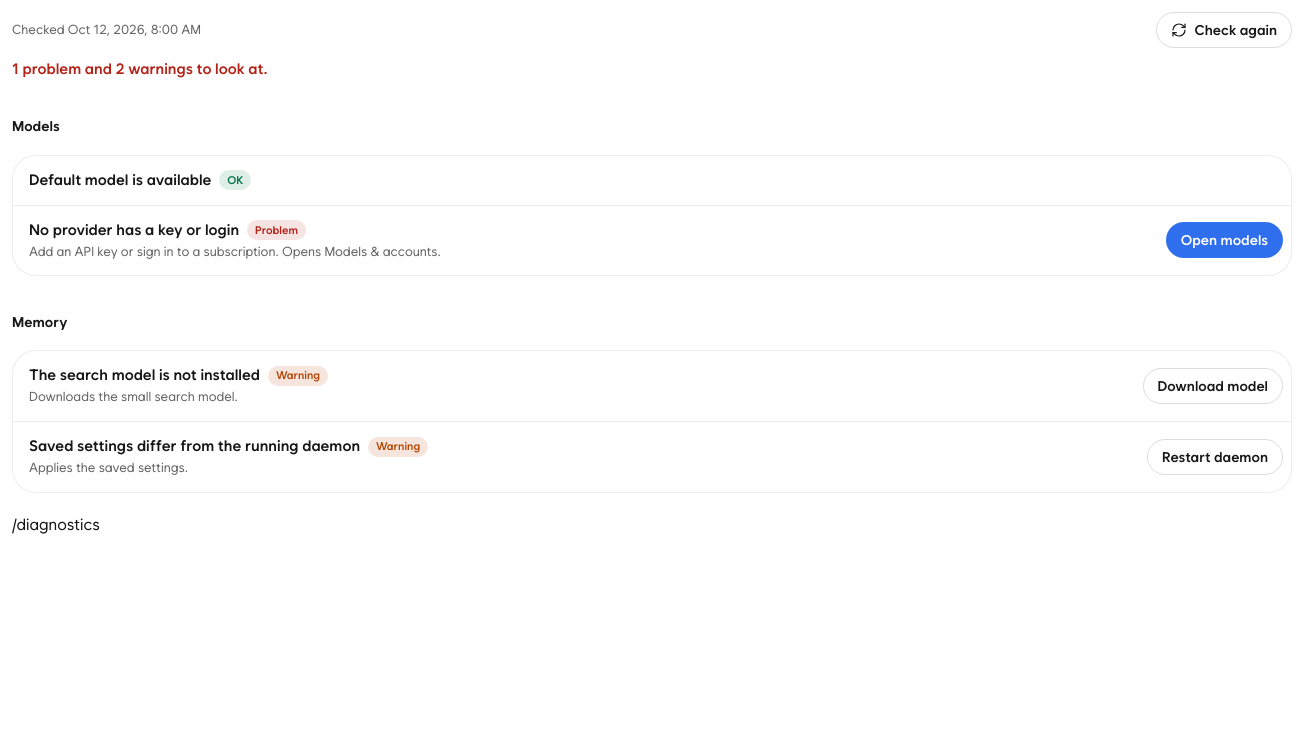
Test: DiagnosticsPage › opens the screen a fix points at
Click the button with aria-label "Open models: No provider has a key or login": (1224, 240) [1166, 222, 1283, 258]
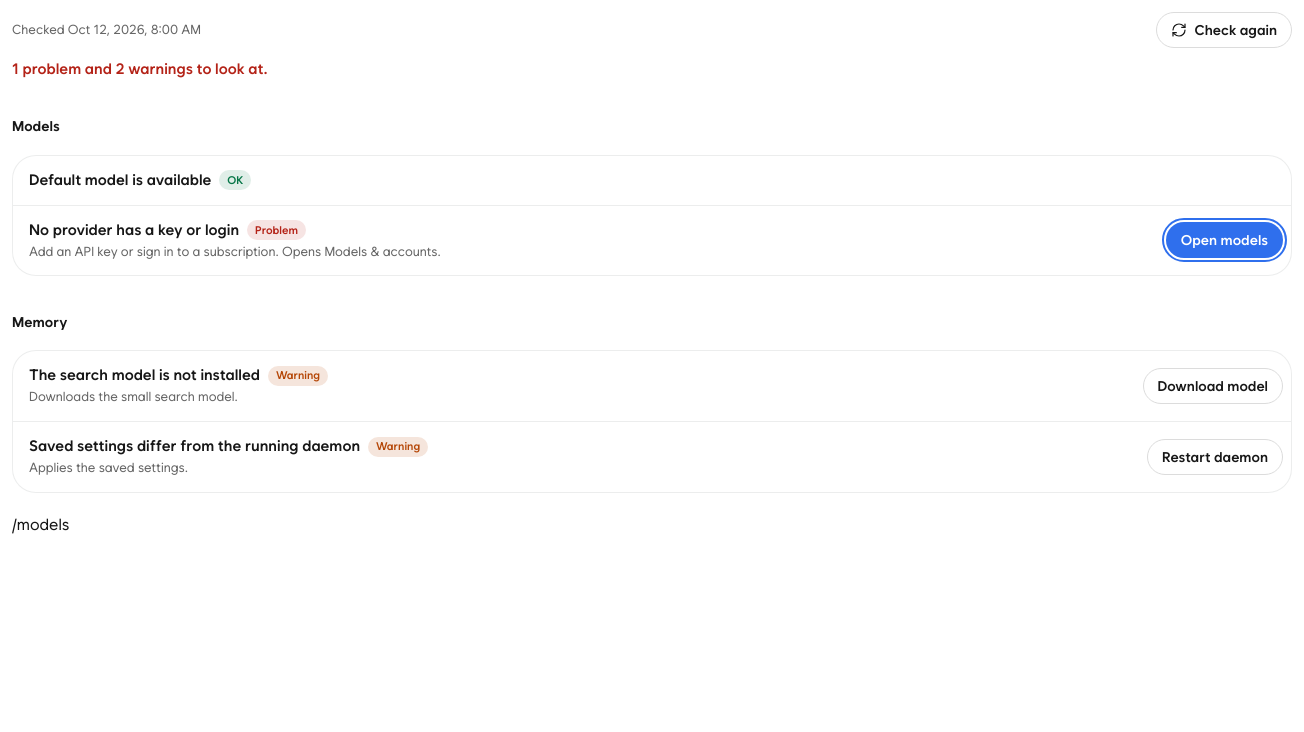
Now the text with test id "where" reads "/models", box [12, 515, 69, 534]
